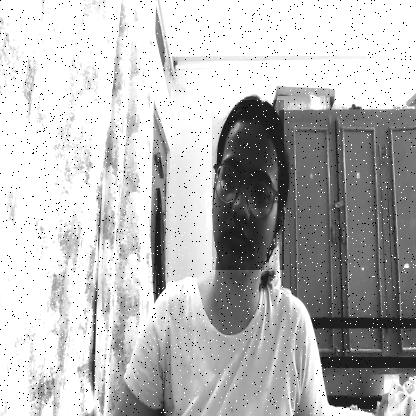Normal: (212, 100, 284, 270)
